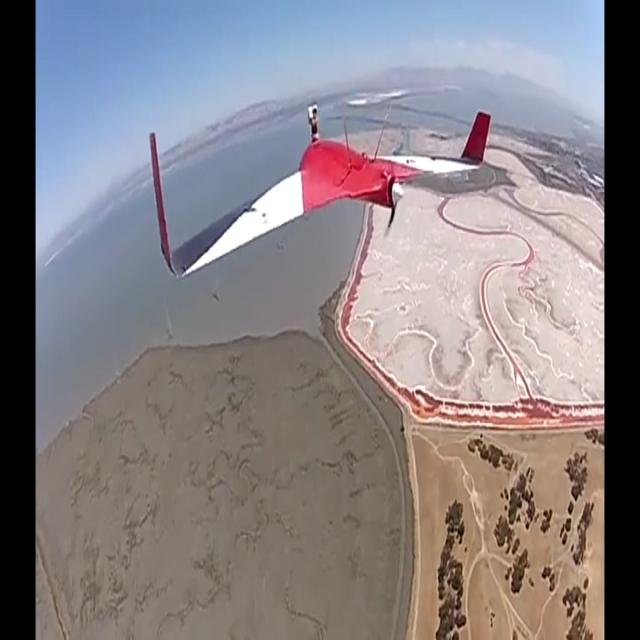iha: (149, 101, 492, 280)
